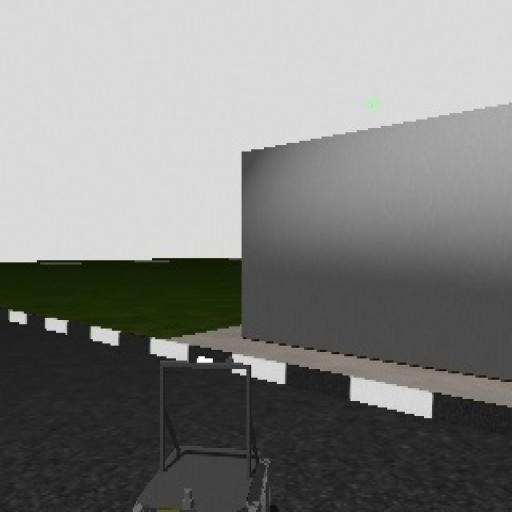huskya200: (130, 333, 290, 512)
